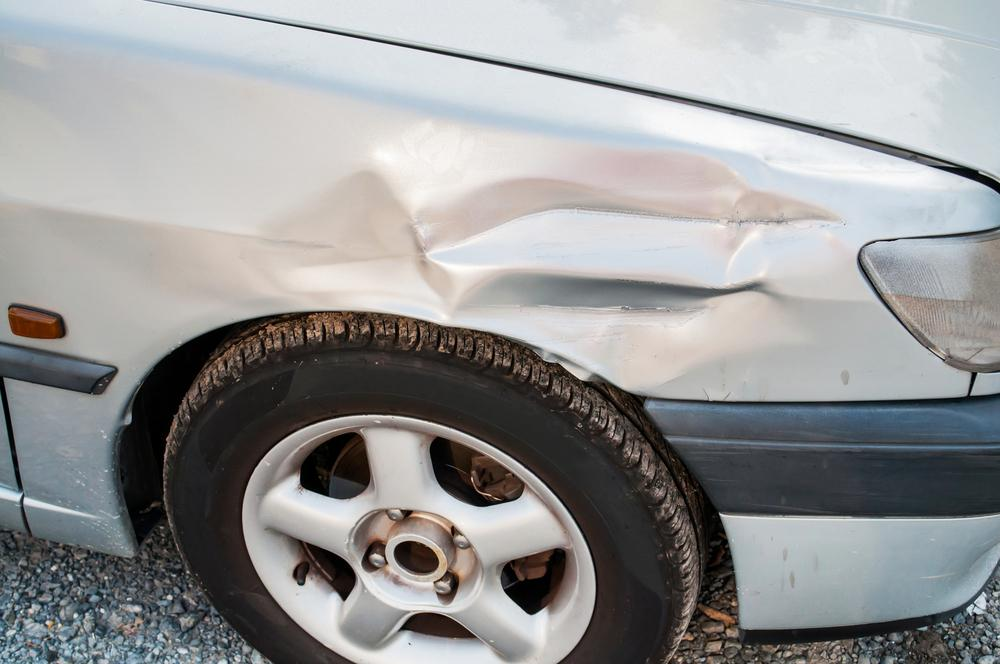dent: (256, 123, 841, 393)
